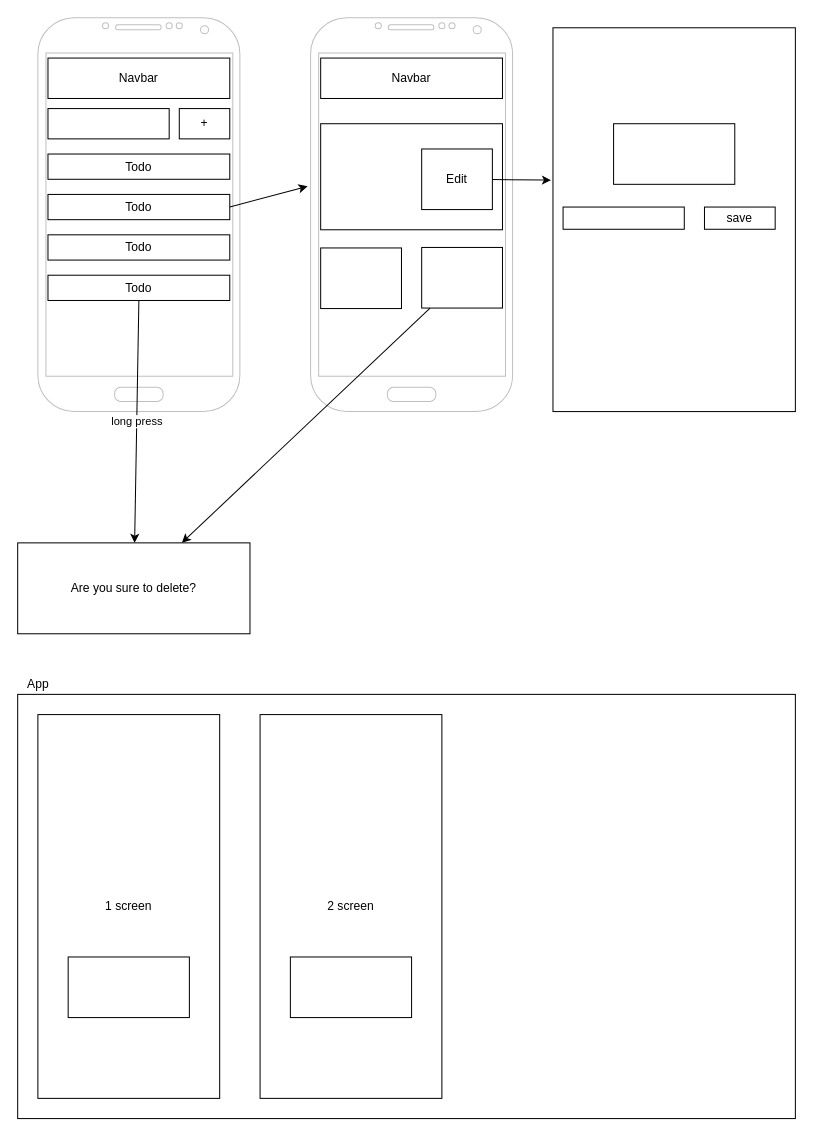
This 813x1136 diagram has some shape labels left out. The shapes that lost their labels are listed below. From the top down, each one's box as (x1, y1, x2, y2) in pixels, then its label:
(47, 108, 169, 139): input
(613, 123, 735, 184): textInput
(320, 123, 502, 230): Todo Title
(562, 206, 684, 229): cancel
(320, 247, 401, 309): Back
(421, 246, 502, 308): Remove
